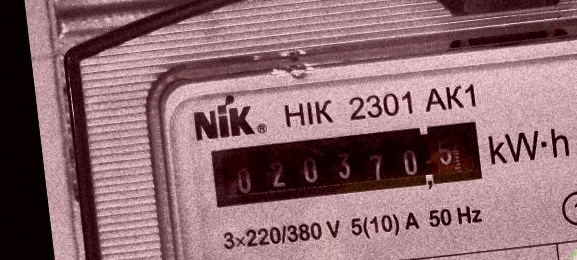0: (399, 146, 421, 178), (233, 163, 253, 194), (300, 154, 319, 183)
2: (267, 157, 288, 190)
3: (333, 149, 353, 181)
5: (434, 135, 456, 168)
7: (367, 151, 385, 183)
screen: (203, 112, 491, 219)
